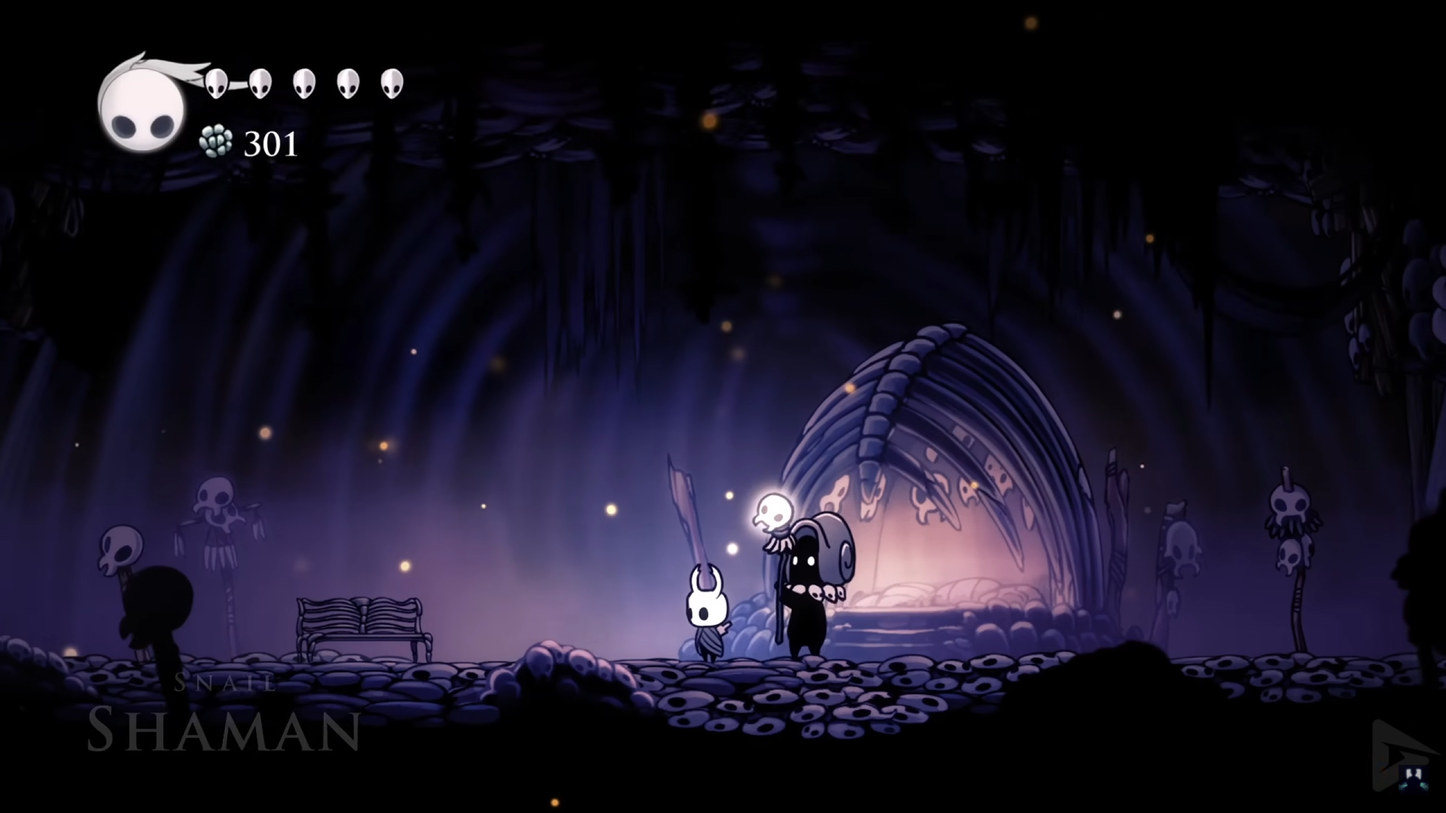HK: (678, 561, 737, 663)
